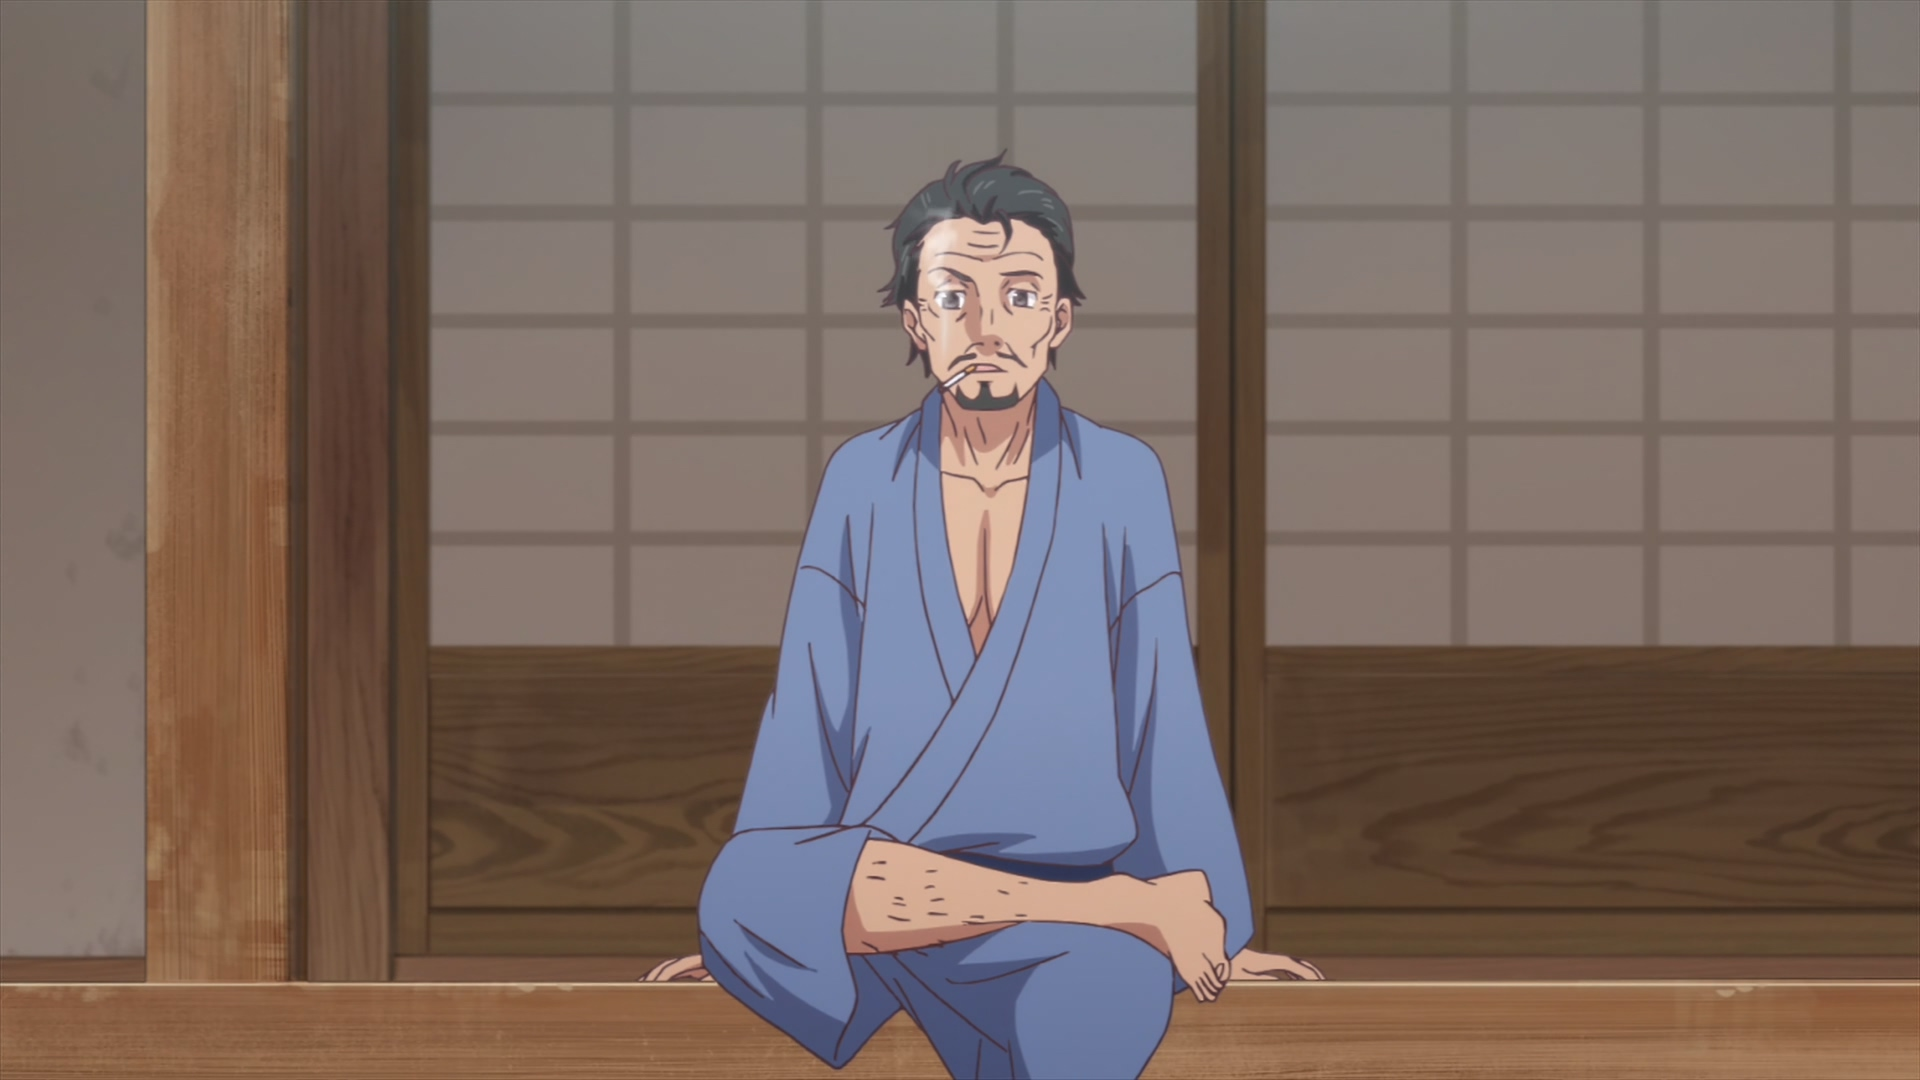其他: (638, 149, 1325, 1080)
